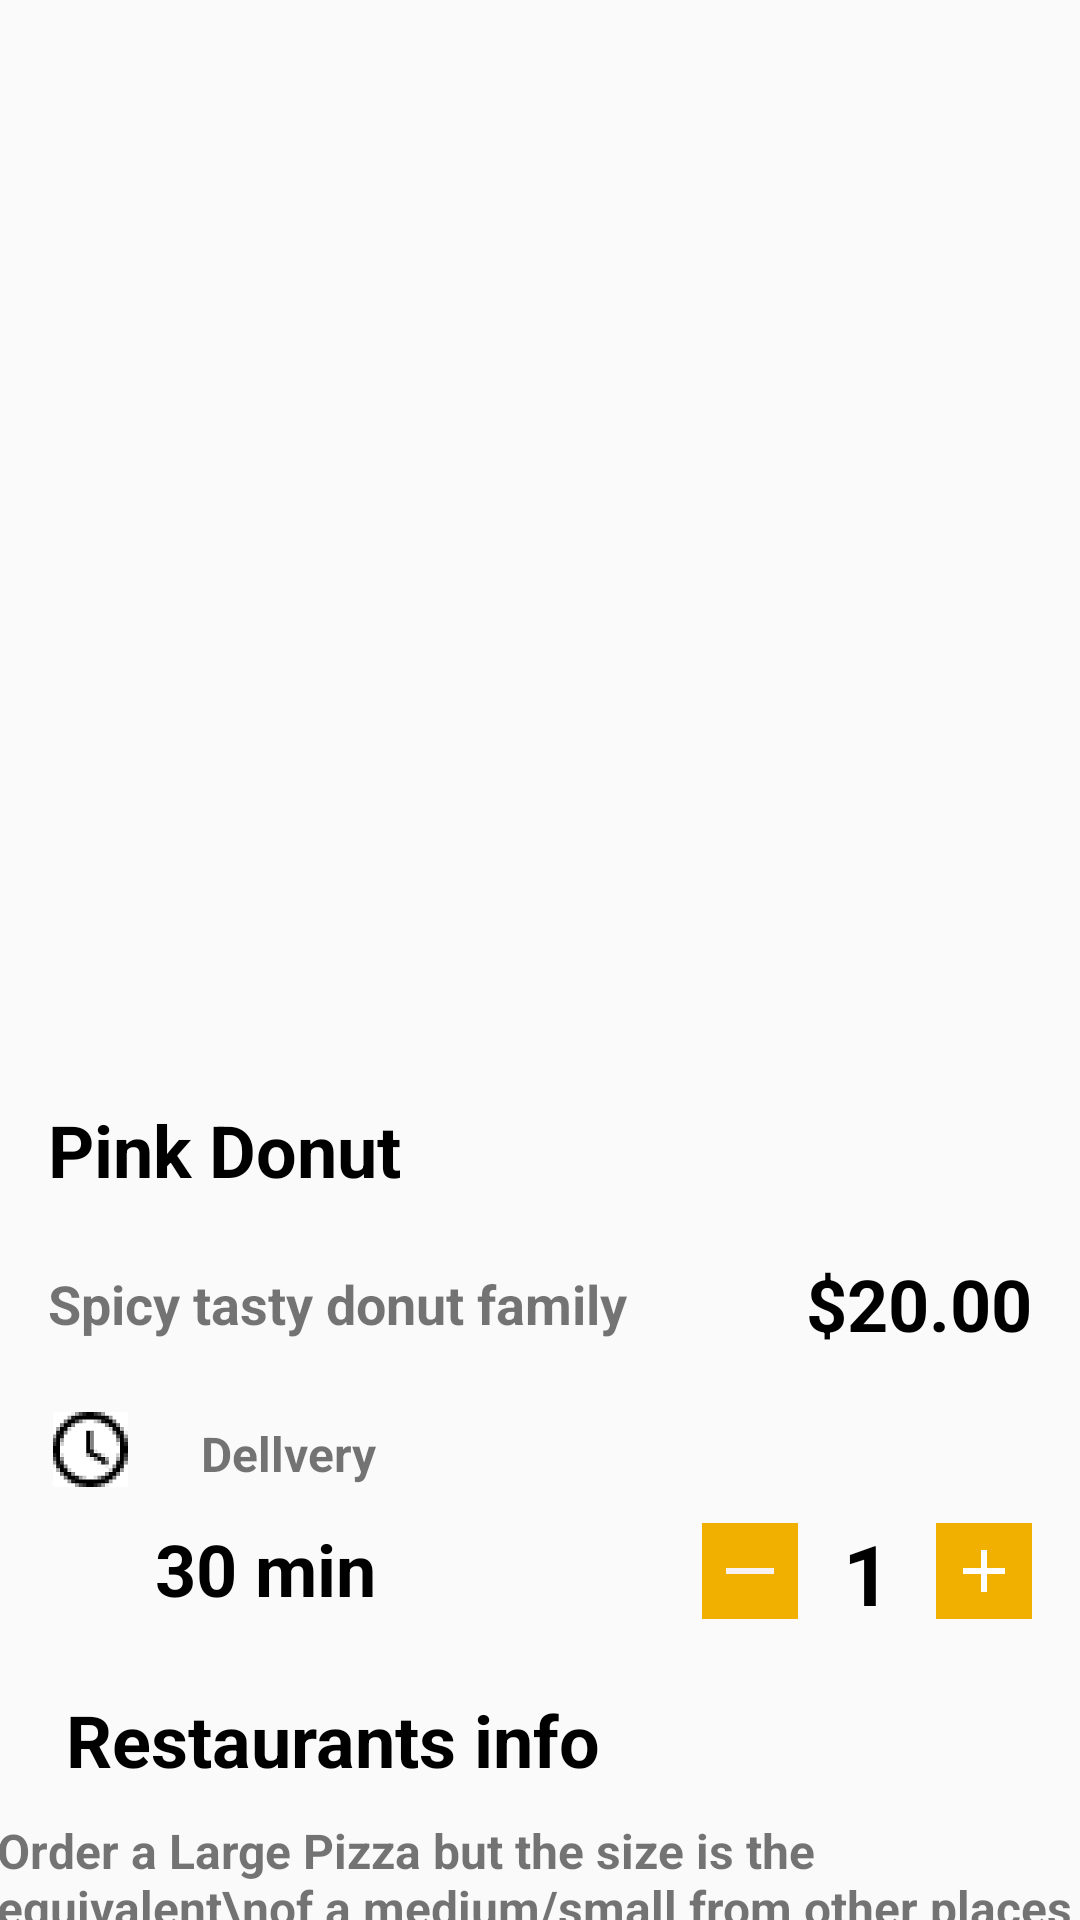

Locate icon controls on the screen. Image size 1080 x 1920, boxes as BBox(x1, y1, x2, y2).
add: BBox(936, 1523, 1032, 1619)
horizontal rule: BBox(702, 1523, 798, 1619)
